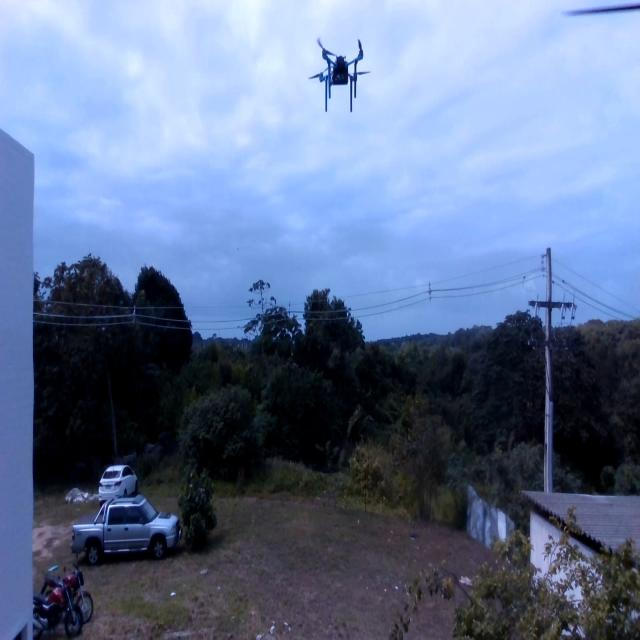-uav-: (299, 27, 378, 122)
